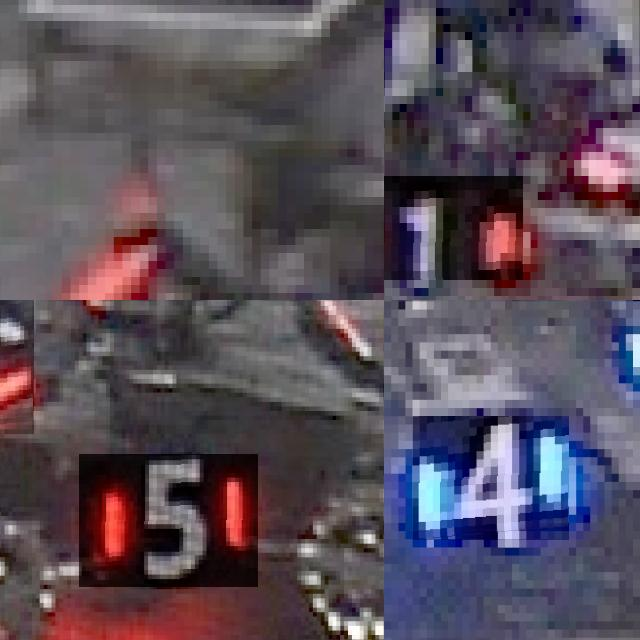B4: (413, 416, 569, 540)
R1: (384, 176, 523, 280)
R5: (79, 454, 258, 587), (0, 300, 33, 434)
